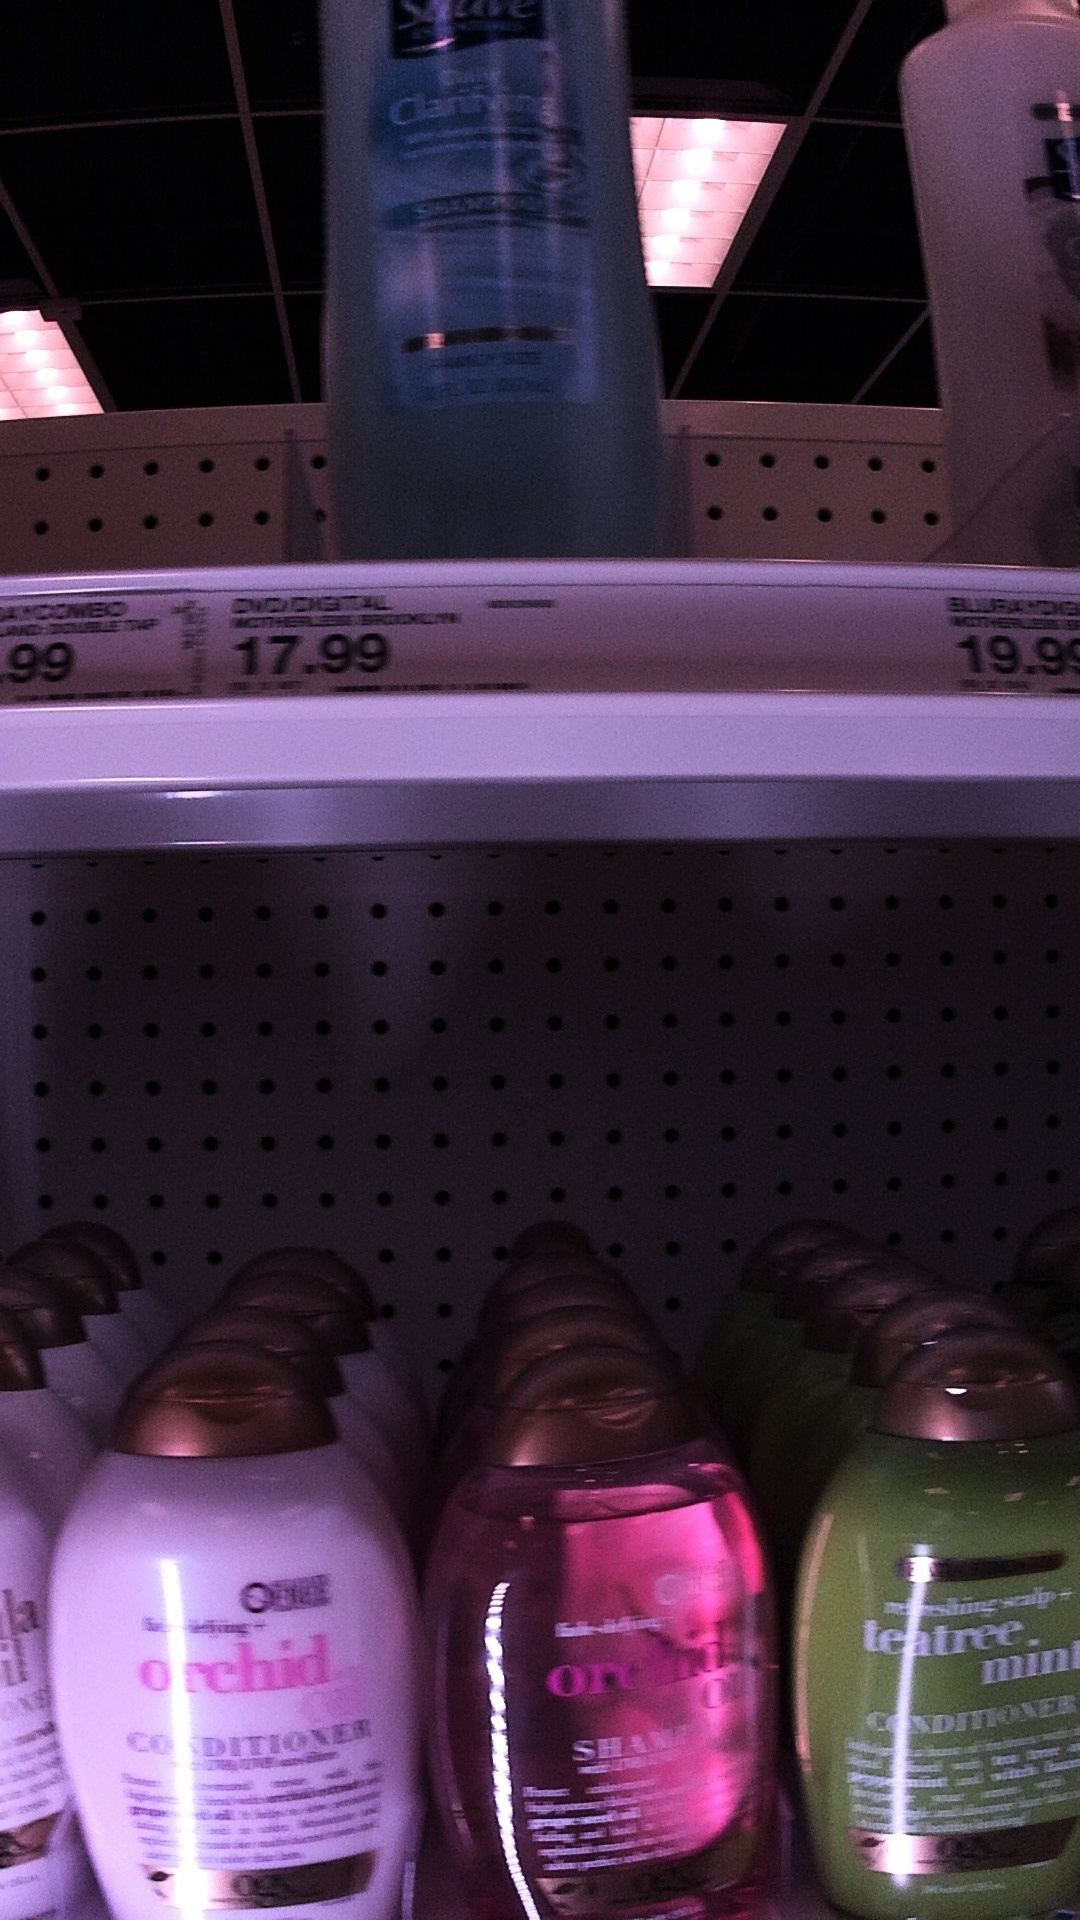ptag: (218, 595, 566, 702), (1, 585, 193, 712)
